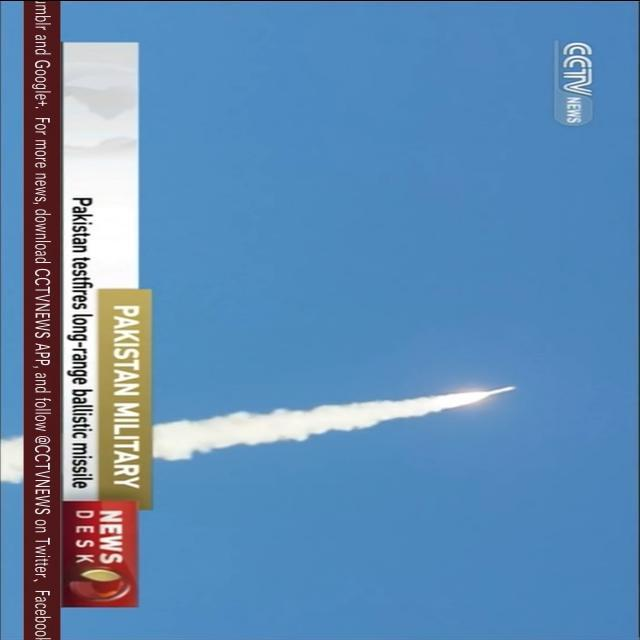Missile: (479, 384, 522, 396)
